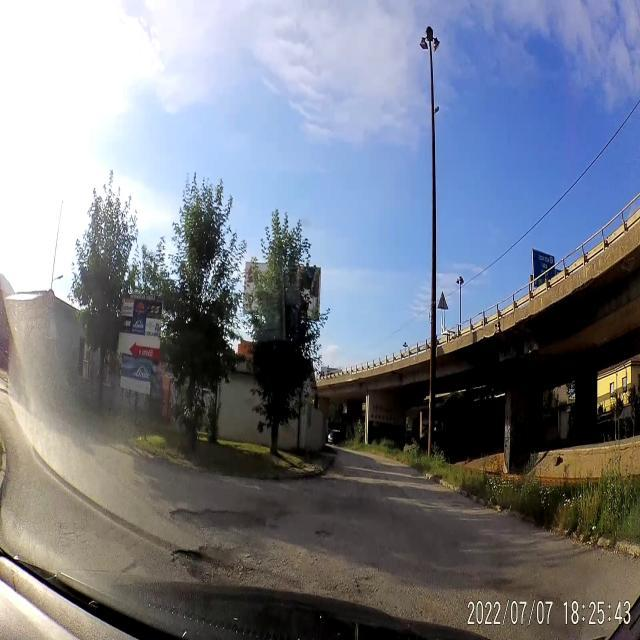Pothole: (170, 541, 252, 585), (167, 500, 270, 532), (346, 570, 378, 596), (314, 524, 338, 546)
